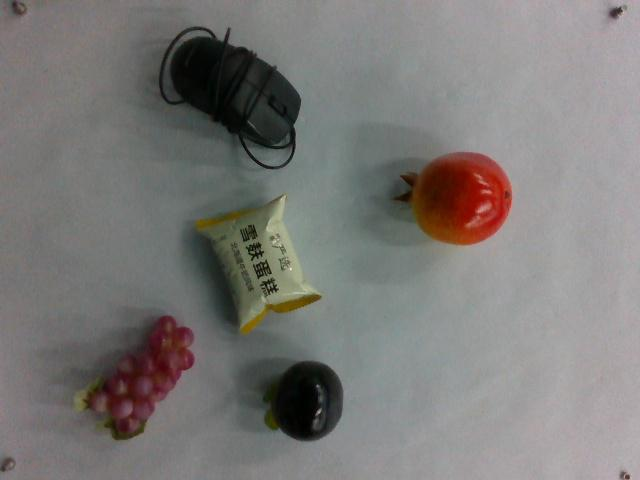dessert: (188, 201, 323, 332)
grape: (81, 317, 199, 447)
mangosteen: (256, 355, 349, 443)
mouse: (159, 23, 301, 167)
pomegranate: (403, 148, 513, 245)
